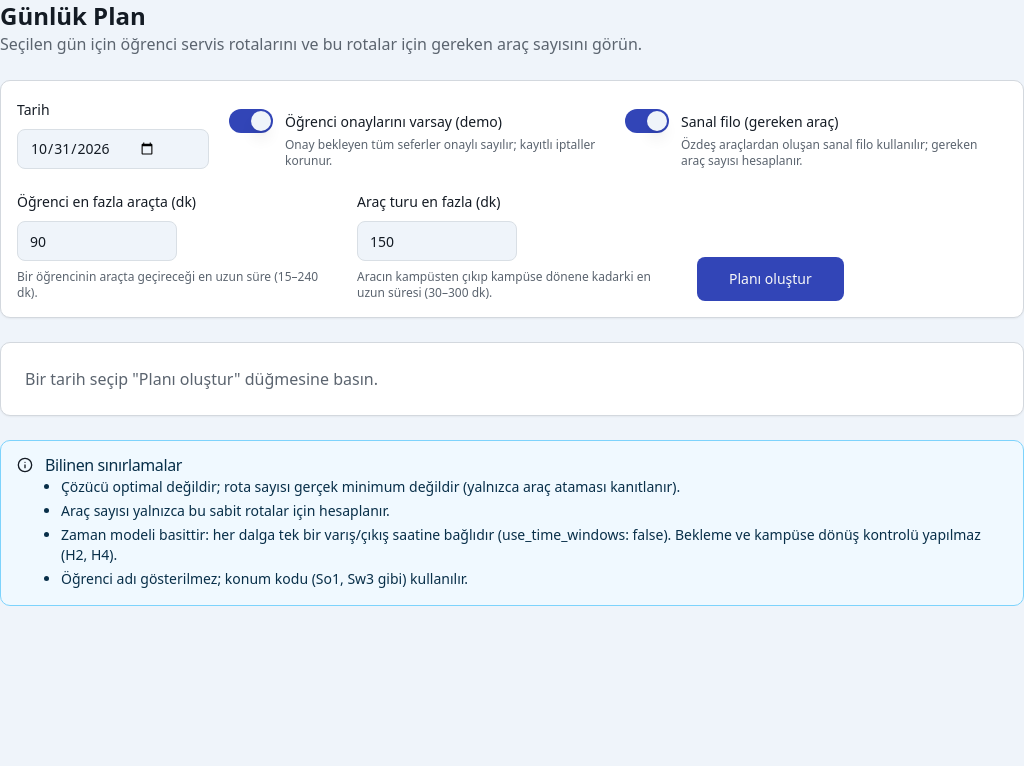
DailyPlanPage › sends recorded and live when both switches are turned off
In the date field labelled "Tarih": (113, 149) [17,129,209,169], type "2026-10-05"
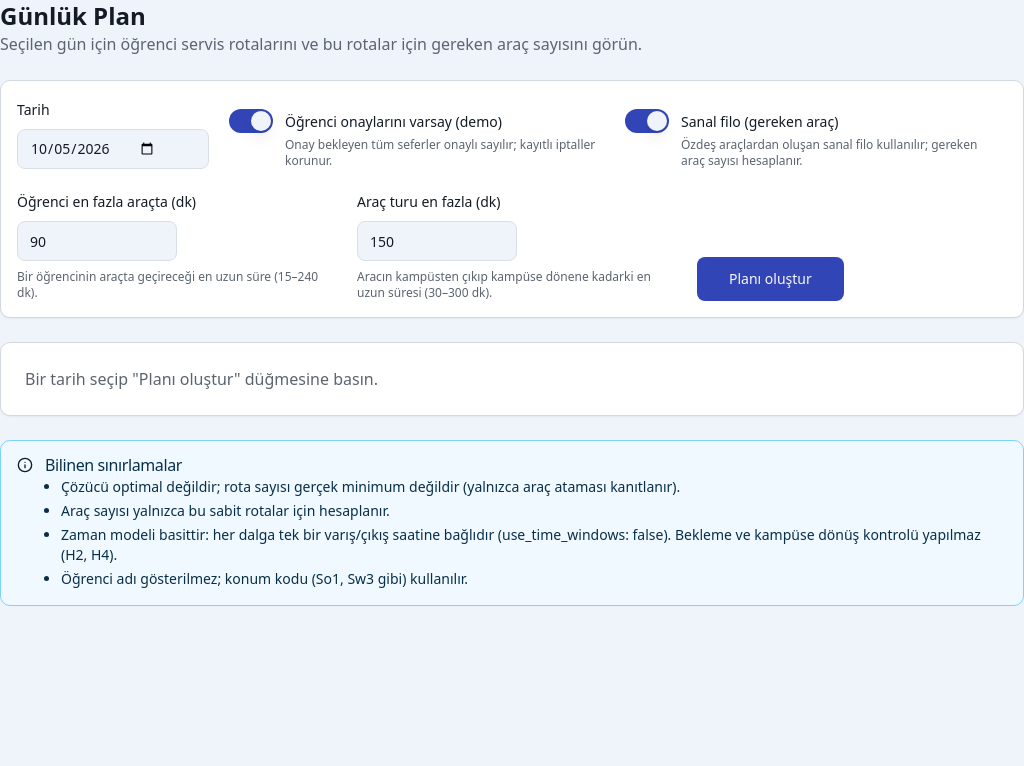
Click the switch named "Öğrenci onaylarını varsay (demo)" next to "Öğrenci onaylarını varsay (demo)": (251, 121) [229,109,273,133]
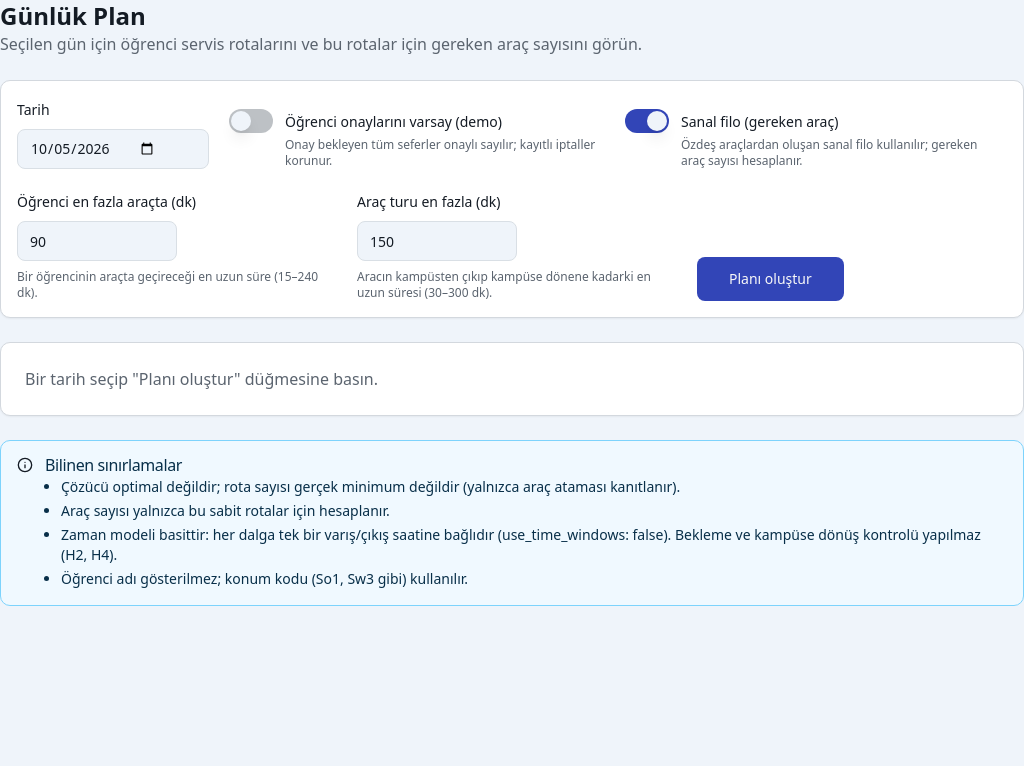
Click the switch named "Sanal filo (gereken araç)" next to "Sanal filo (gereken araç)": (647, 121) [625,109,669,133]
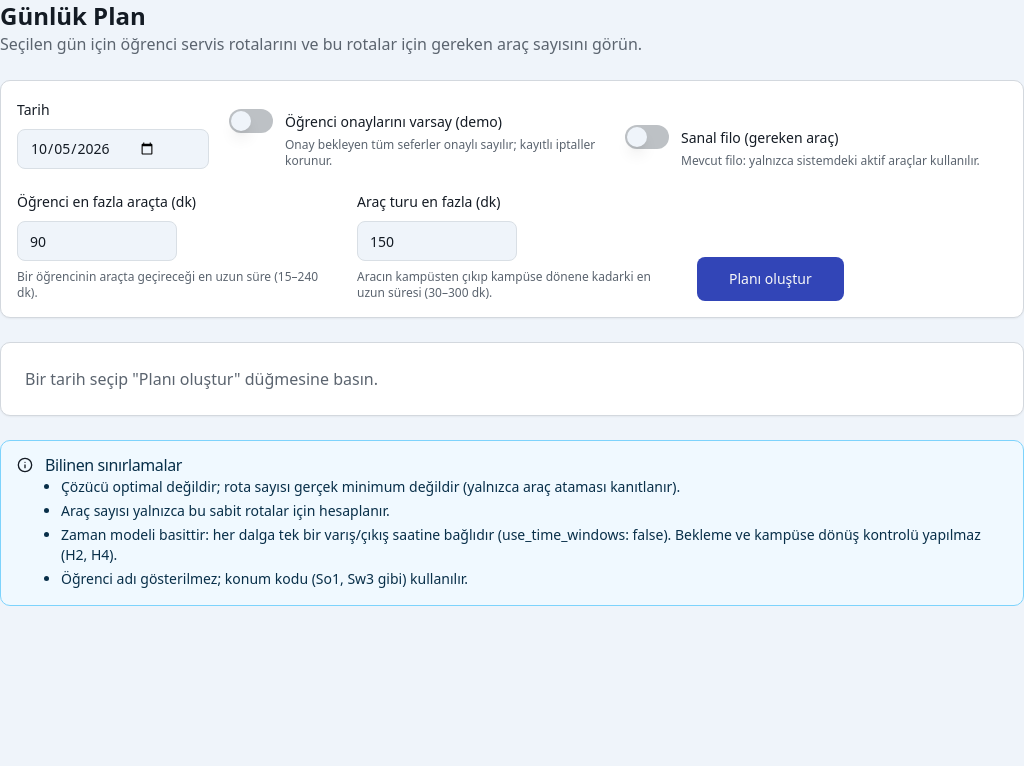
Expected: the text "Mevcut filo: yalnızca sistemdeki aktif araçlar kullanılır." is shown, [681,153,980,169]
Click the button "Planı oluştur": (770, 279) [697,257,844,301]
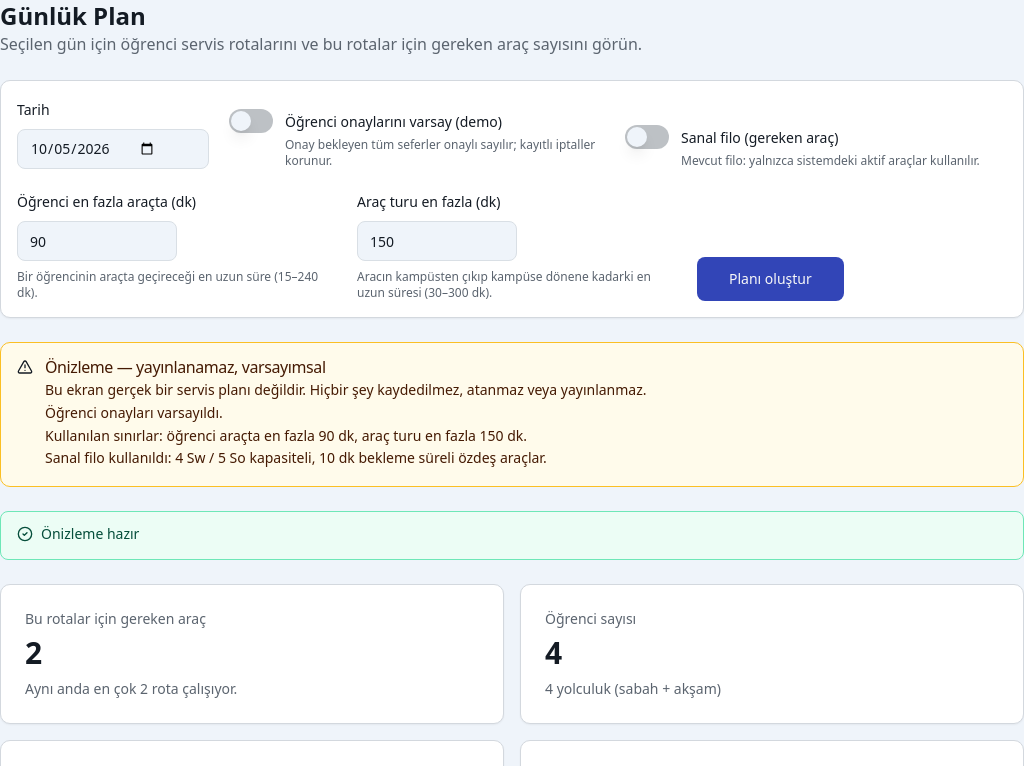
Expected: the element with test id "status-banner" is shown, [0,511,1023,560]
